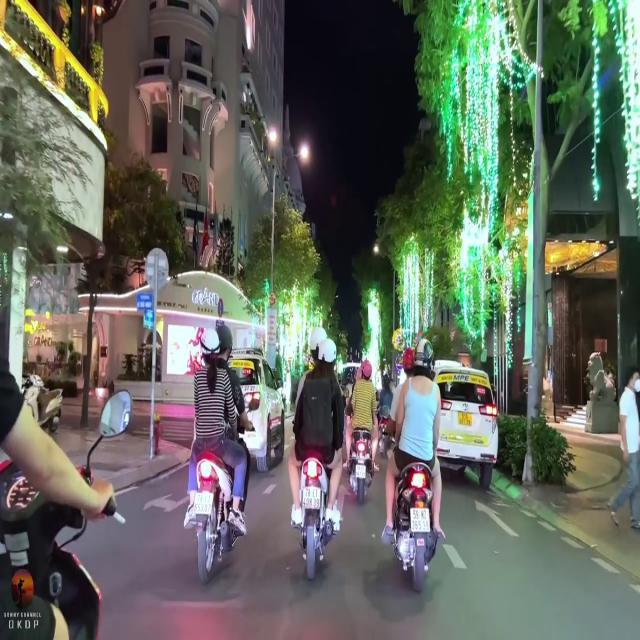bien_trang: (410, 499, 432, 538), (302, 488, 322, 509)
